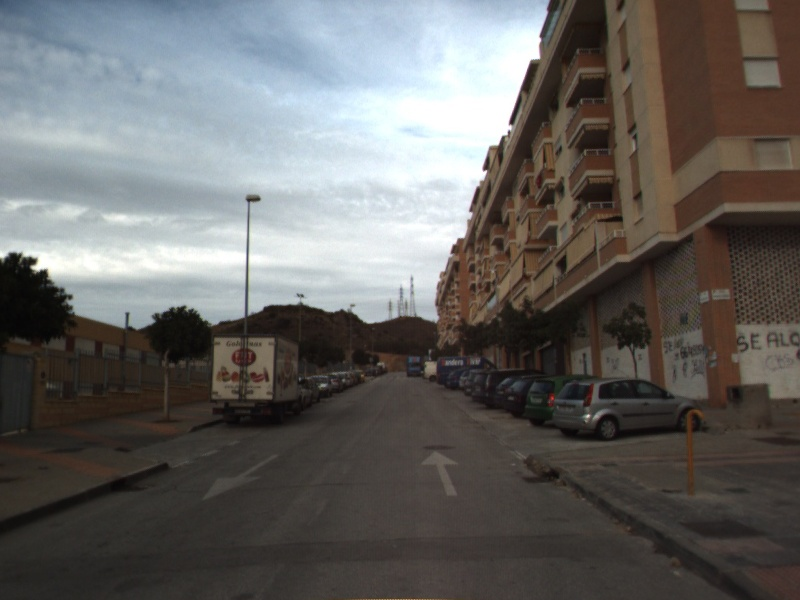STRAIGHT: (419, 448, 461, 498)
